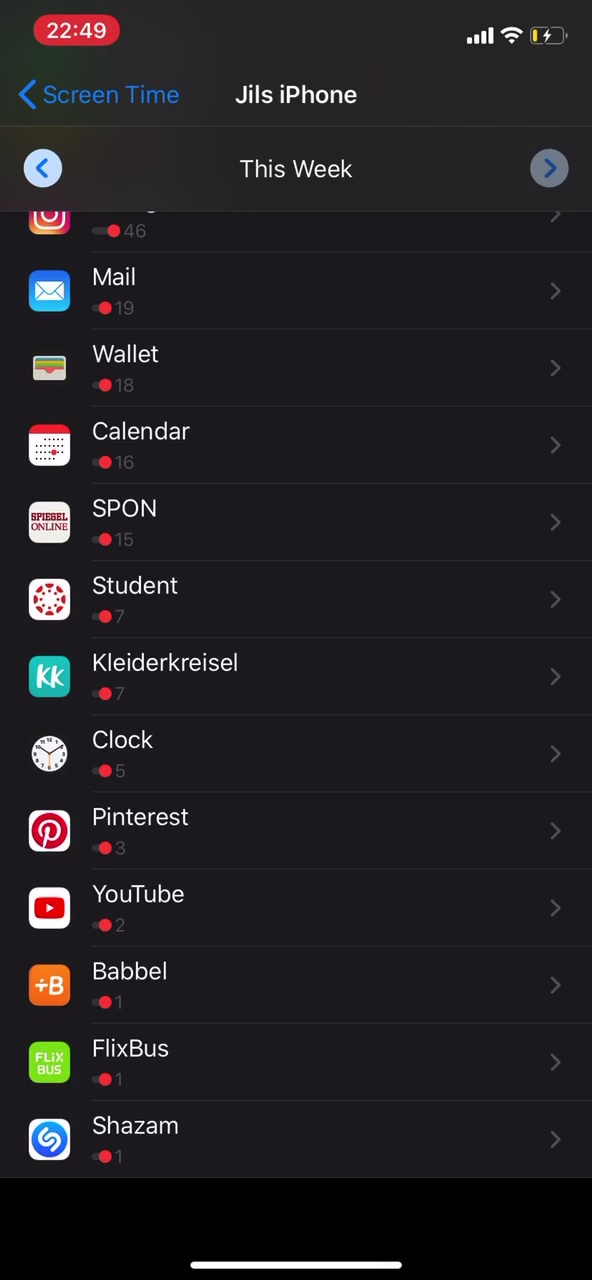not_app: (17, 864, 329, 947), (18, 641, 301, 716), (17, 1105, 292, 1182), (14, 560, 284, 638), (20, 791, 311, 863), (12, 399, 268, 480), (18, 717, 307, 788), (20, 1022, 262, 1103), (14, 485, 273, 557), (11, 258, 243, 335), (18, 952, 254, 1019), (12, 338, 254, 400)
week: (235, 148, 364, 189)
